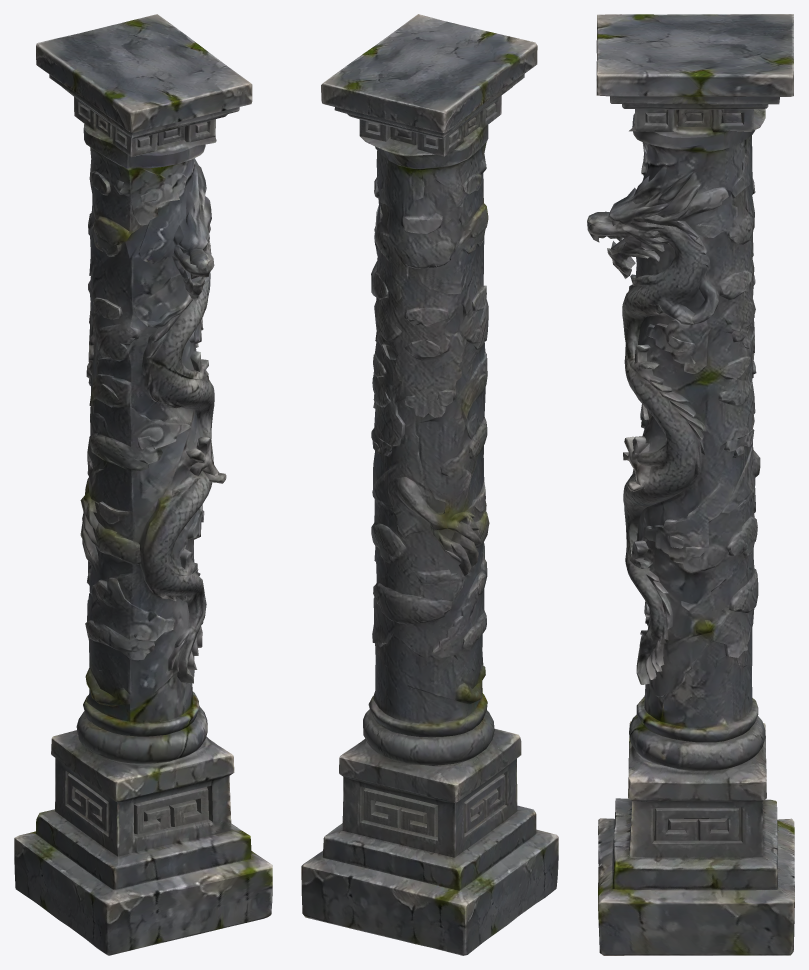
Rendered from pillar_tall.glb.
The picture shows the model from 3 angles, left to right: view 1: azimuth 30°, elevation 25°; view 2: azimuth 150°, elevation 25°; view 3: azimuth 270°, elevation 25°; orthographic projection. The views are drawn at different scales.
Parts seen in each view (by area): view 1: model; view 2: model; view 3: model.
Boxes of the visible parts, <box> form: model: <box>14,14,272,955</box>; model: <box>301,14,558,955</box>; model: <box>587,14,794,955</box>.
Bounding box in the file's own units: 0.3925 × 1.9 × 0.4105.
Materials: 1 (1 with a texture image).
